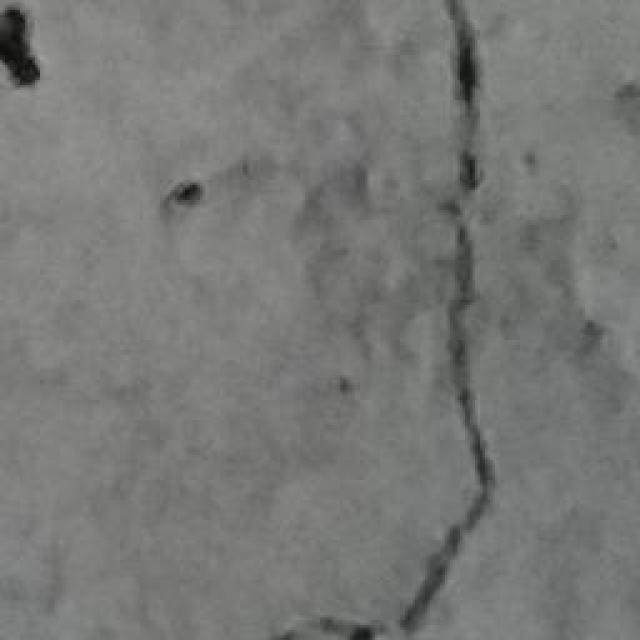Longitudinal: (371, 12, 510, 640)
Rippled: (11, 7, 348, 640), (527, 2, 640, 640)
